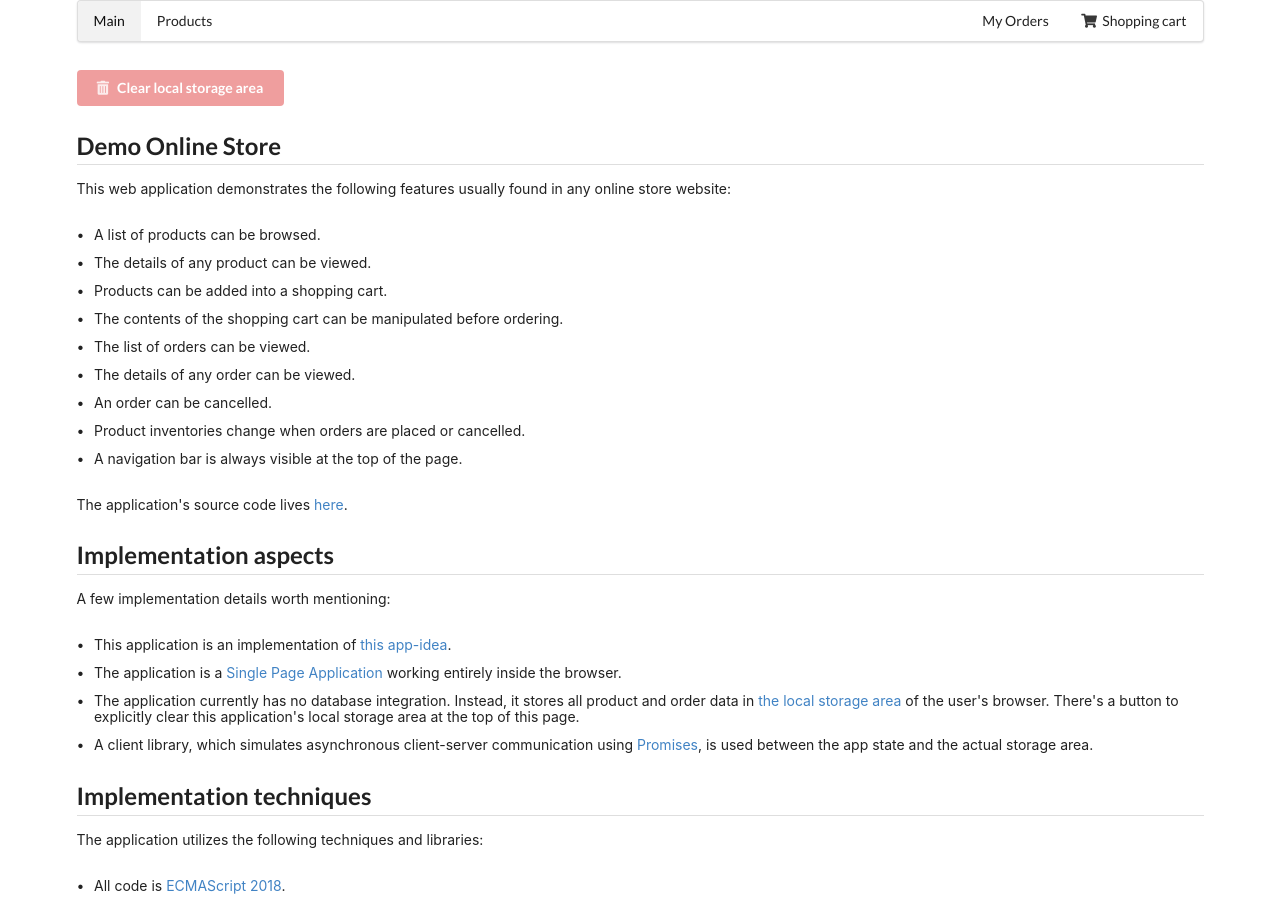
Test: Clear button status depends on local storage.
Expected: the button "Clear local storage area" is disabled, [76,70,284,106]
Click the link "Products".
click(185, 20)  # box [157,12,212,29]
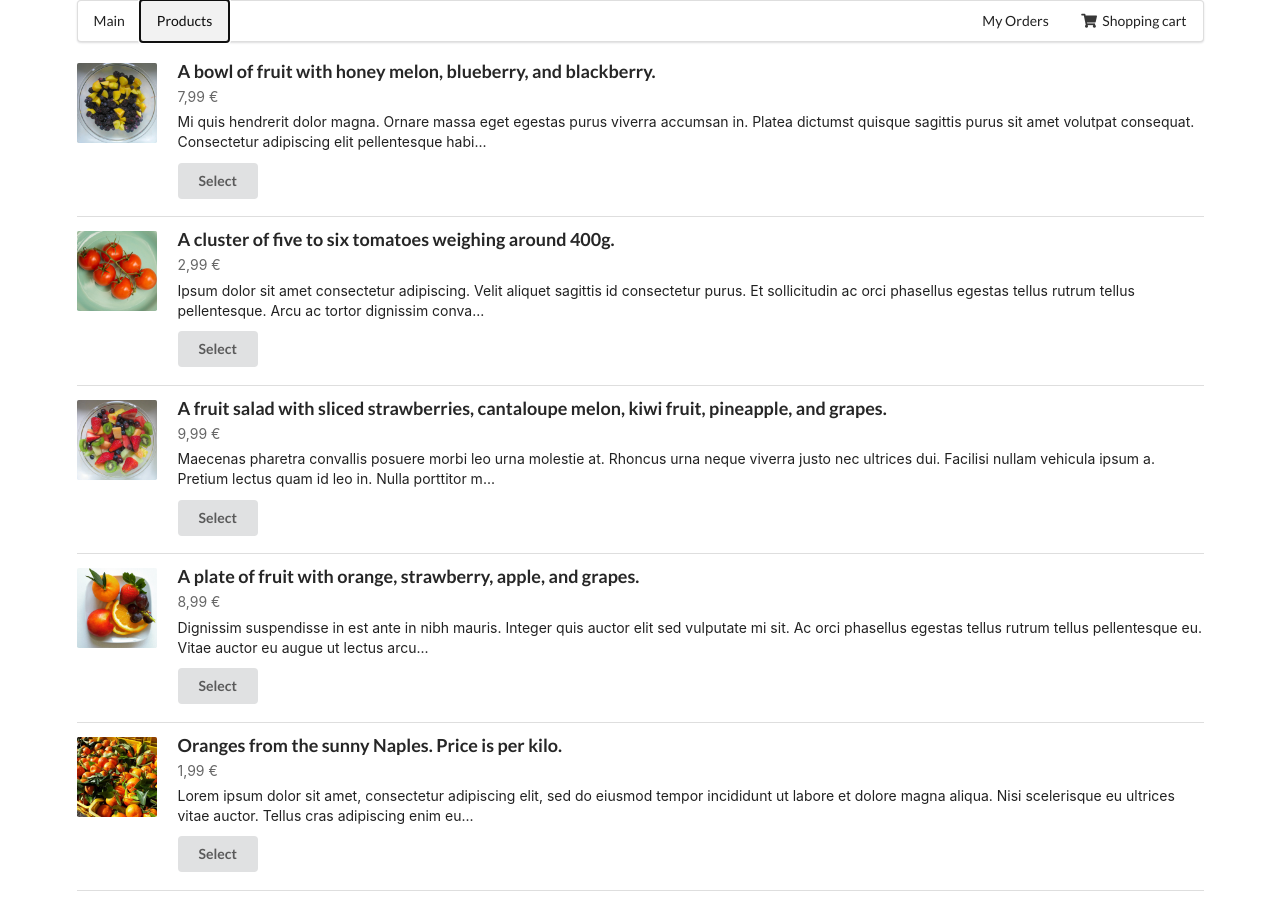
Click the link "Main".
click(109, 20)  # box [94,12,125,29]
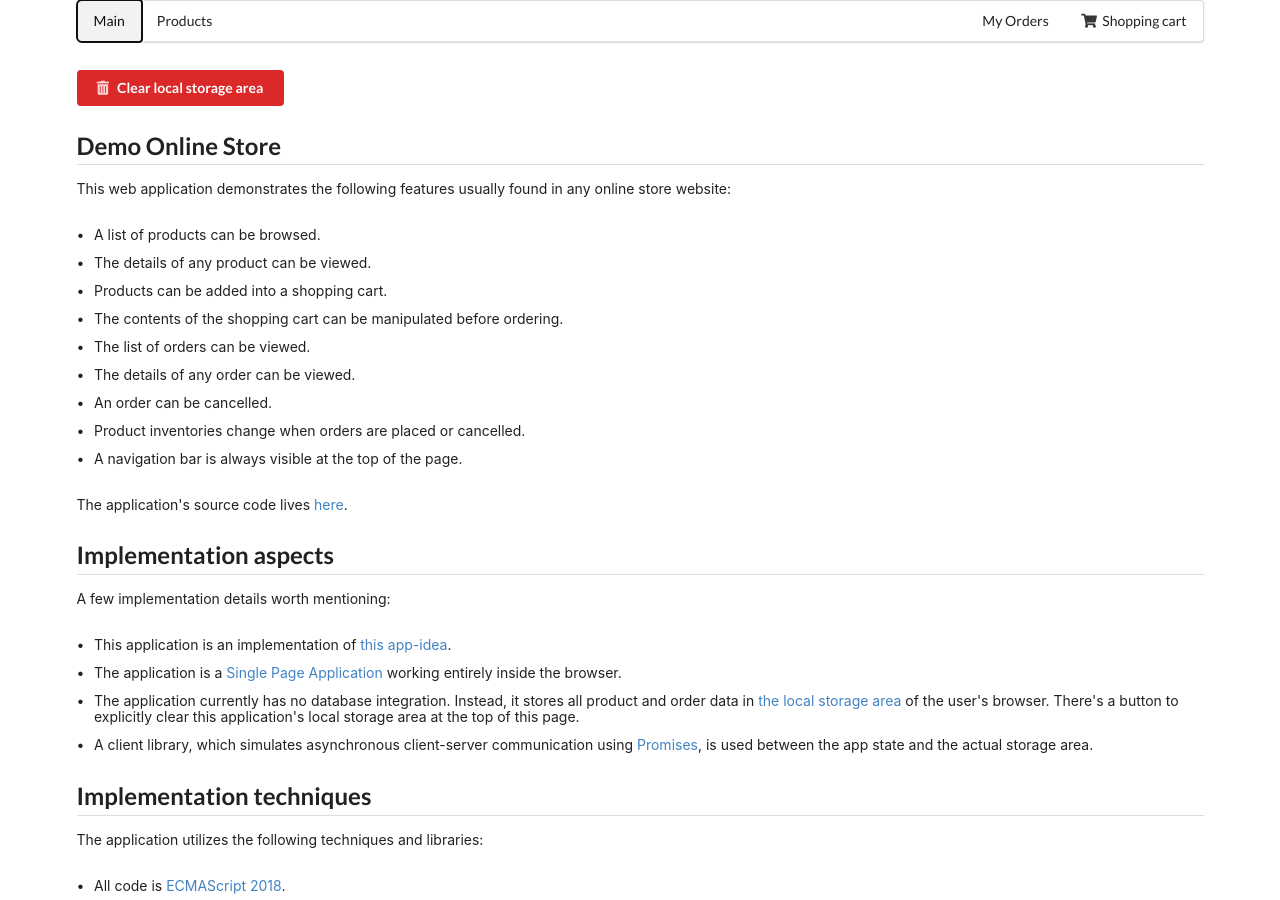
Now the button is enabled
Hover over the button.
mouse_move(180, 88)  # box [76,70,284,106]
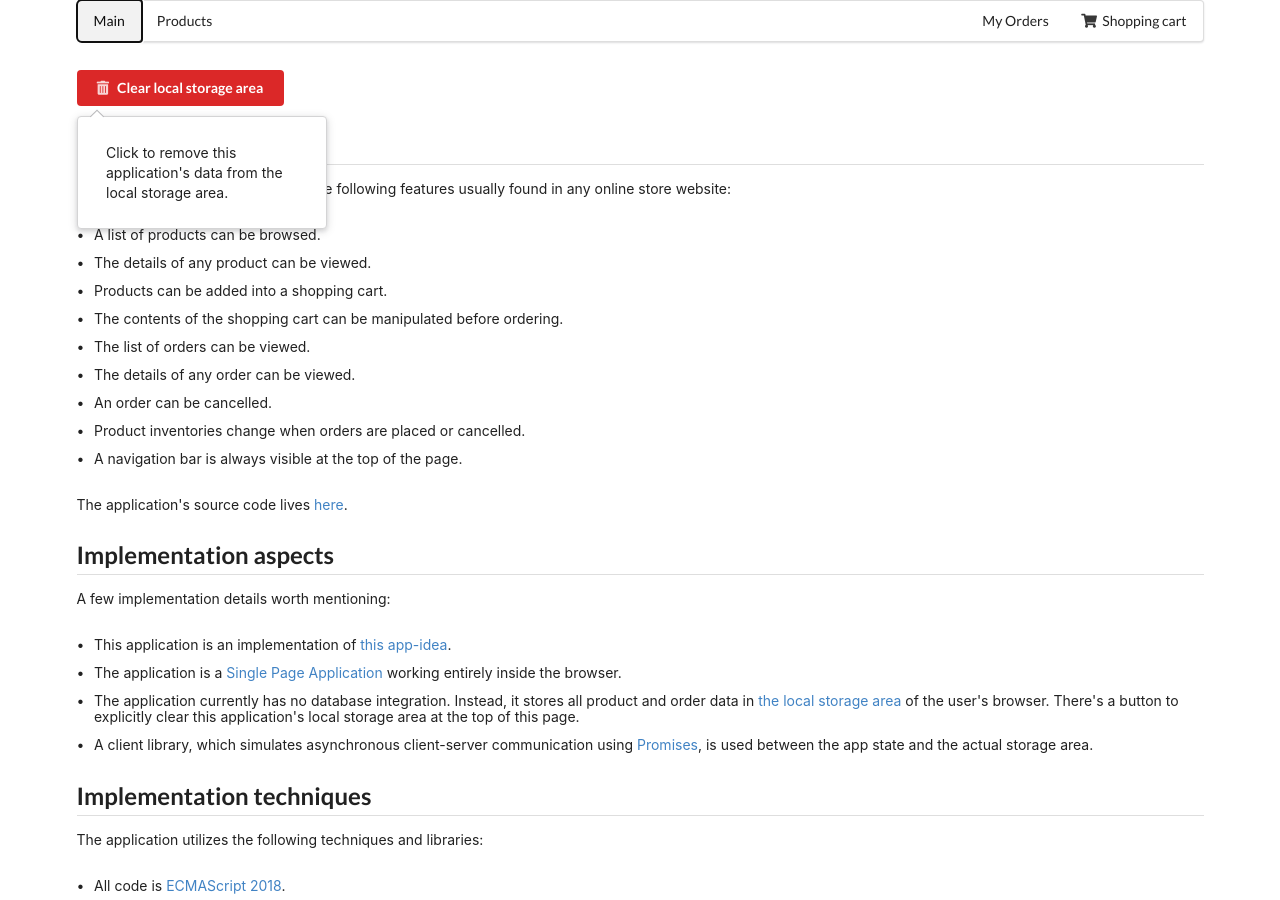
Click the button.
click(180, 88)  # box [76,70,284,106]
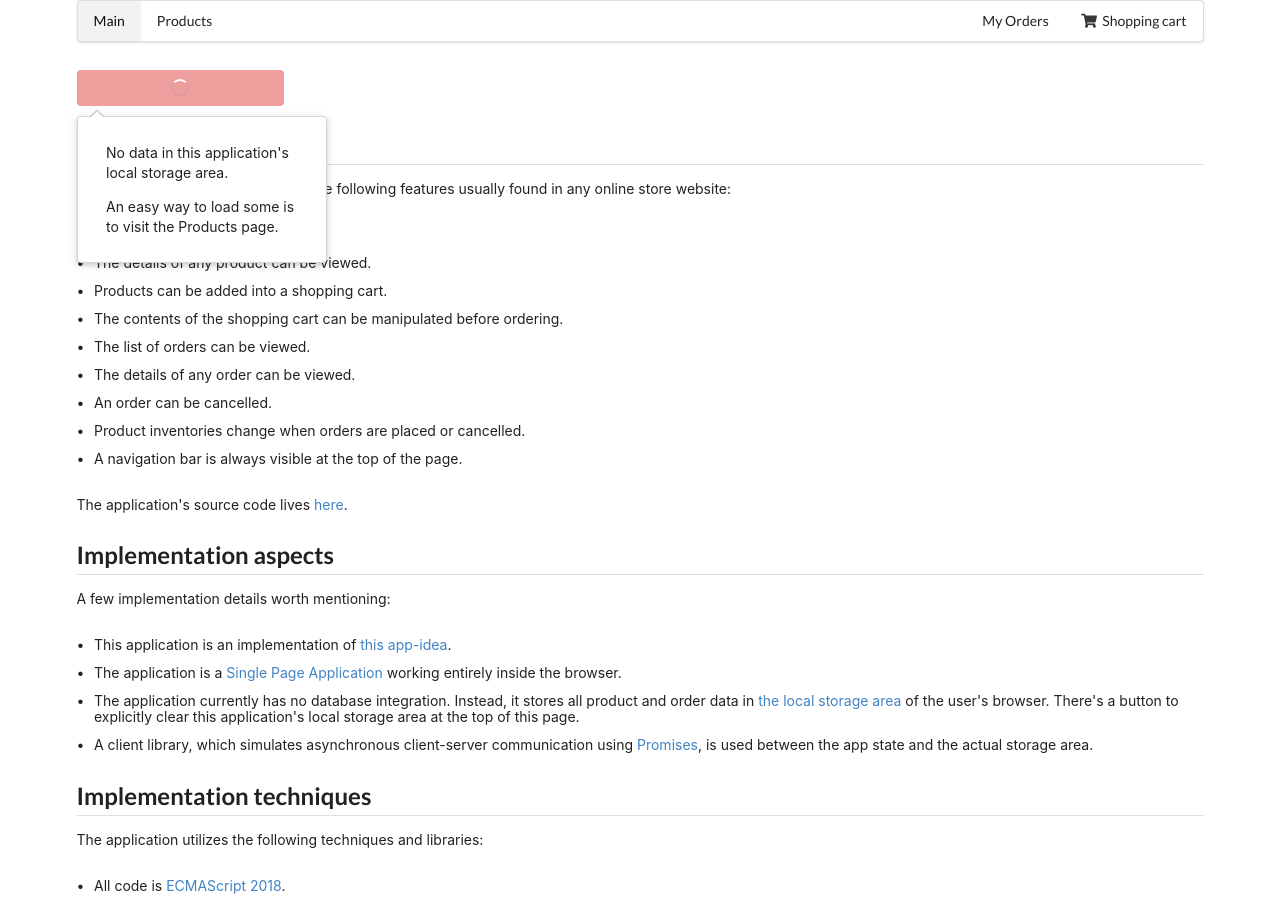
Now the button is disabled, box [76,70,284,106]
